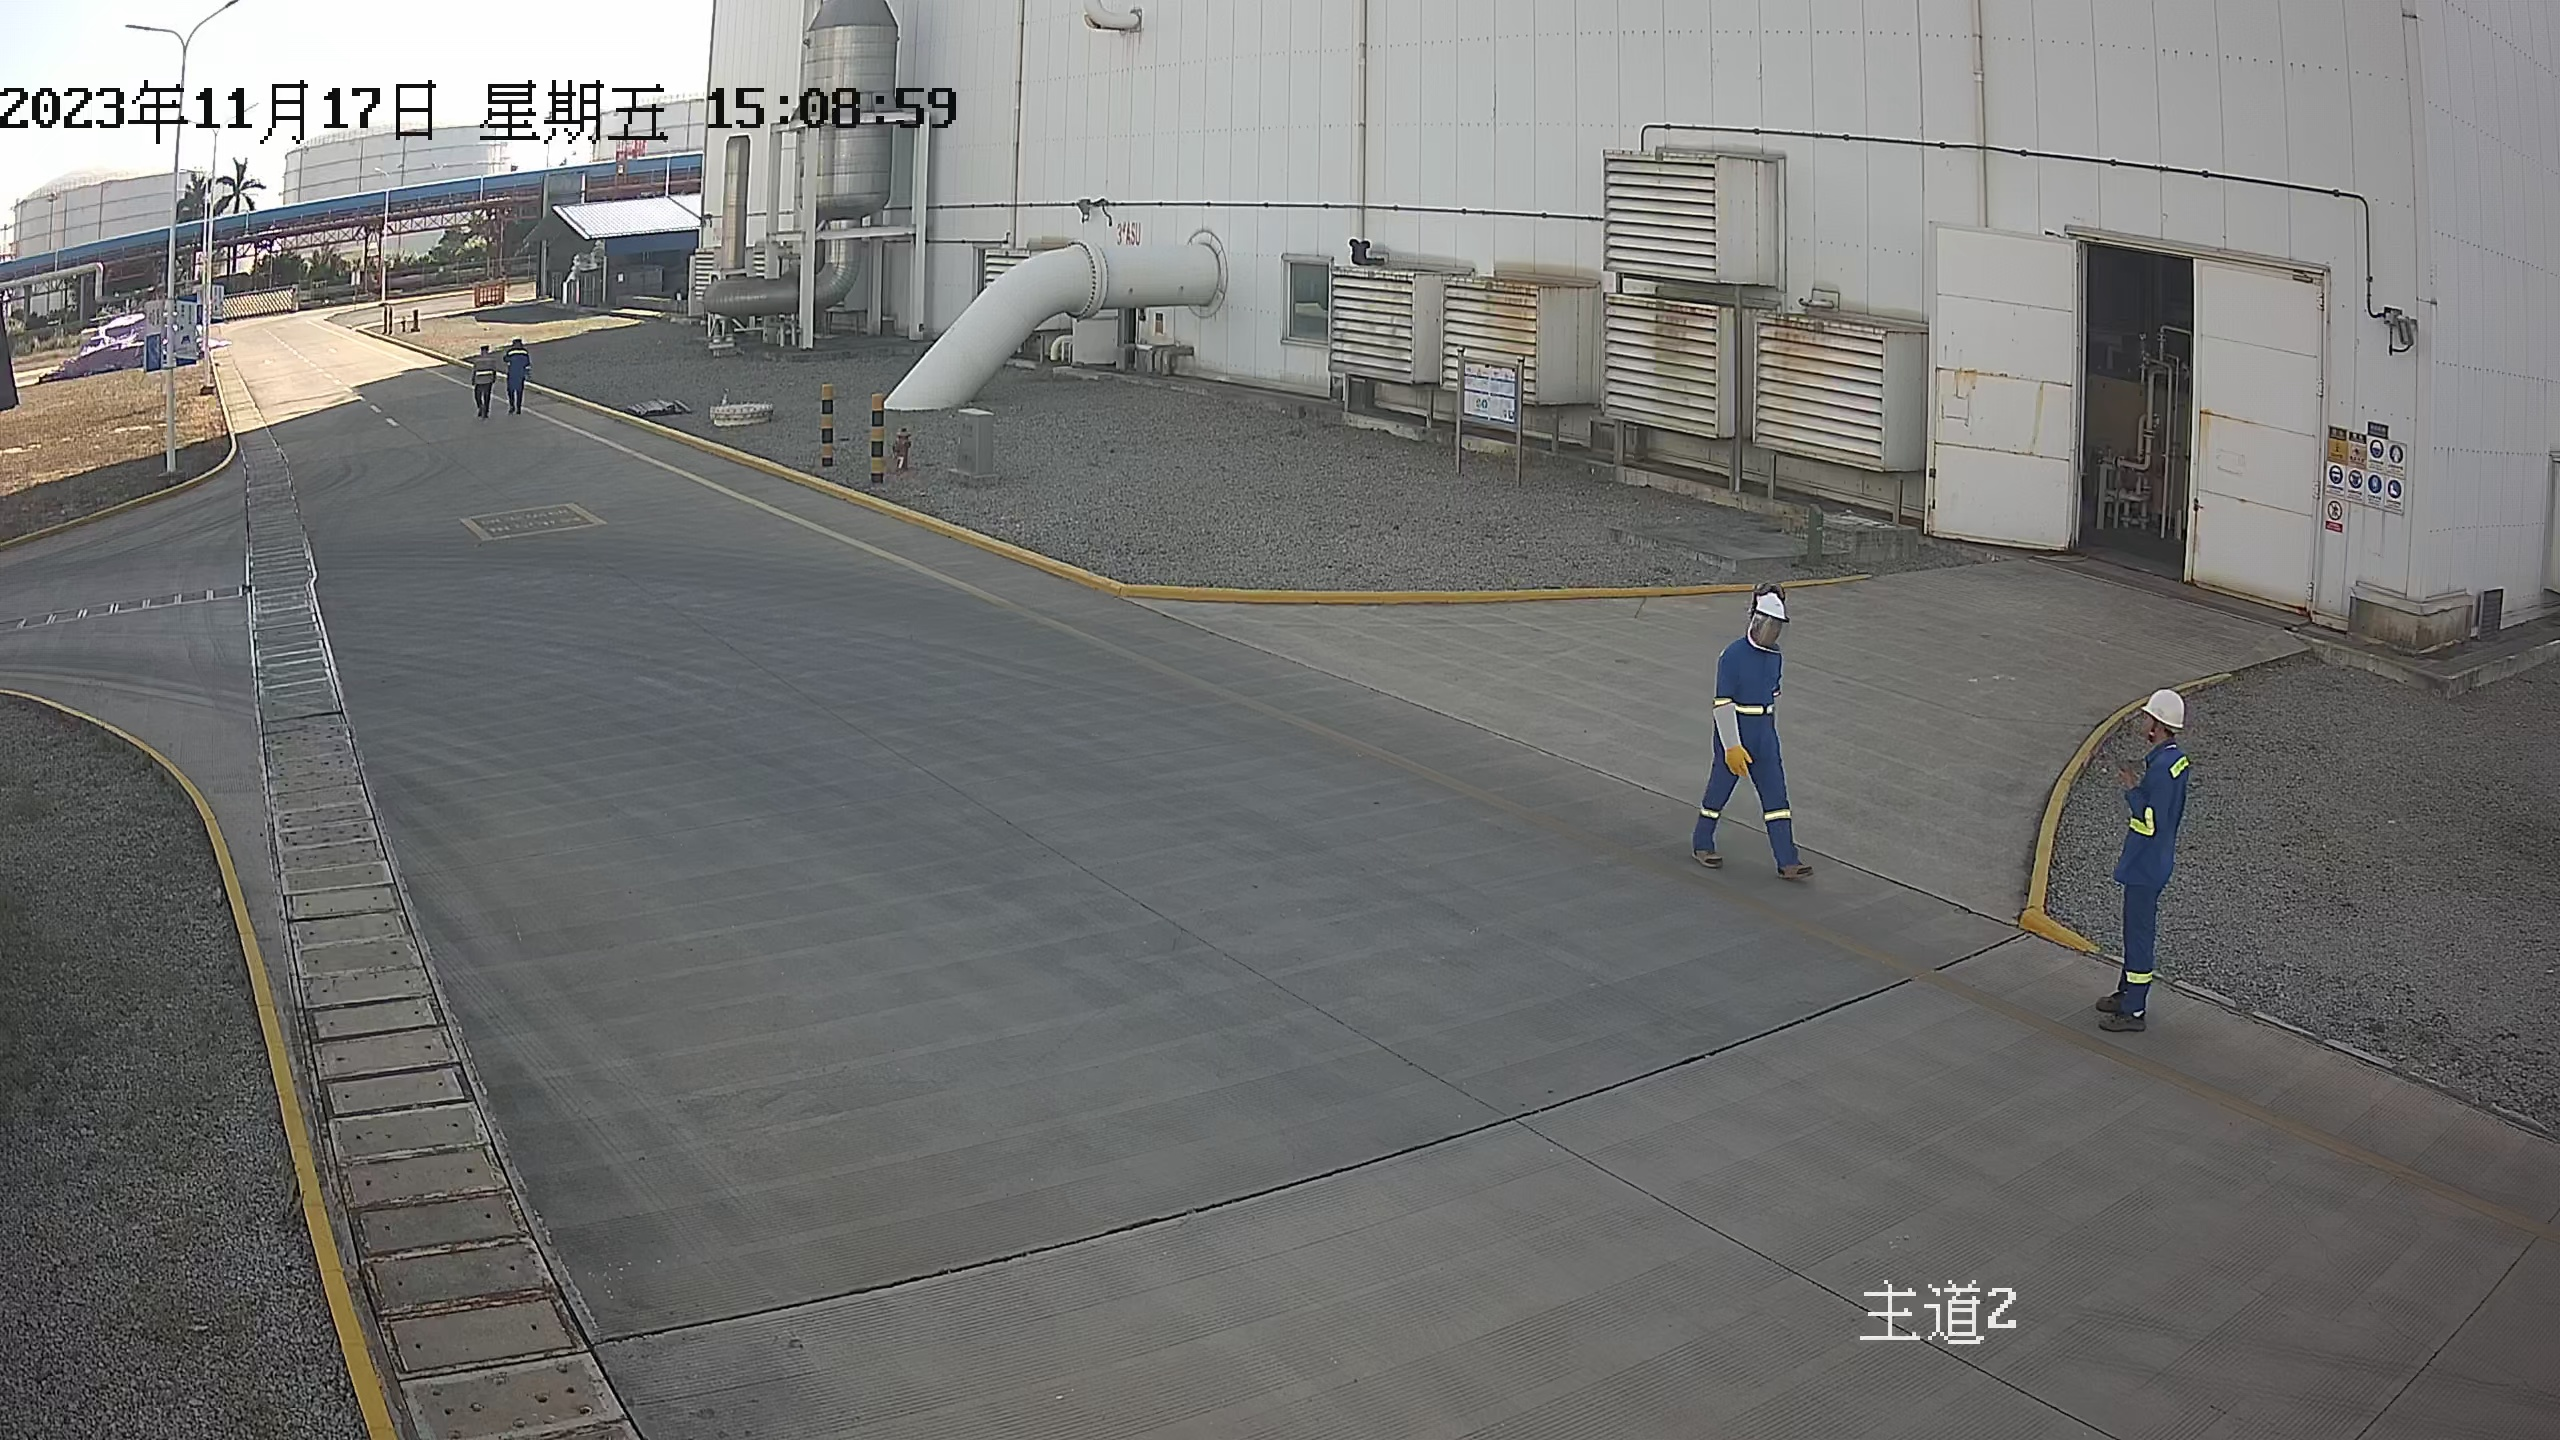Body_without_uniform: (495, 347, 544, 420), (464, 349, 502, 423)
Head_with_Helmet: (1718, 571, 1810, 662), (2123, 680, 2209, 754), (476, 336, 497, 356), (506, 332, 526, 349)
Uniform: (2080, 736, 2243, 1048), (1678, 628, 1851, 890)
